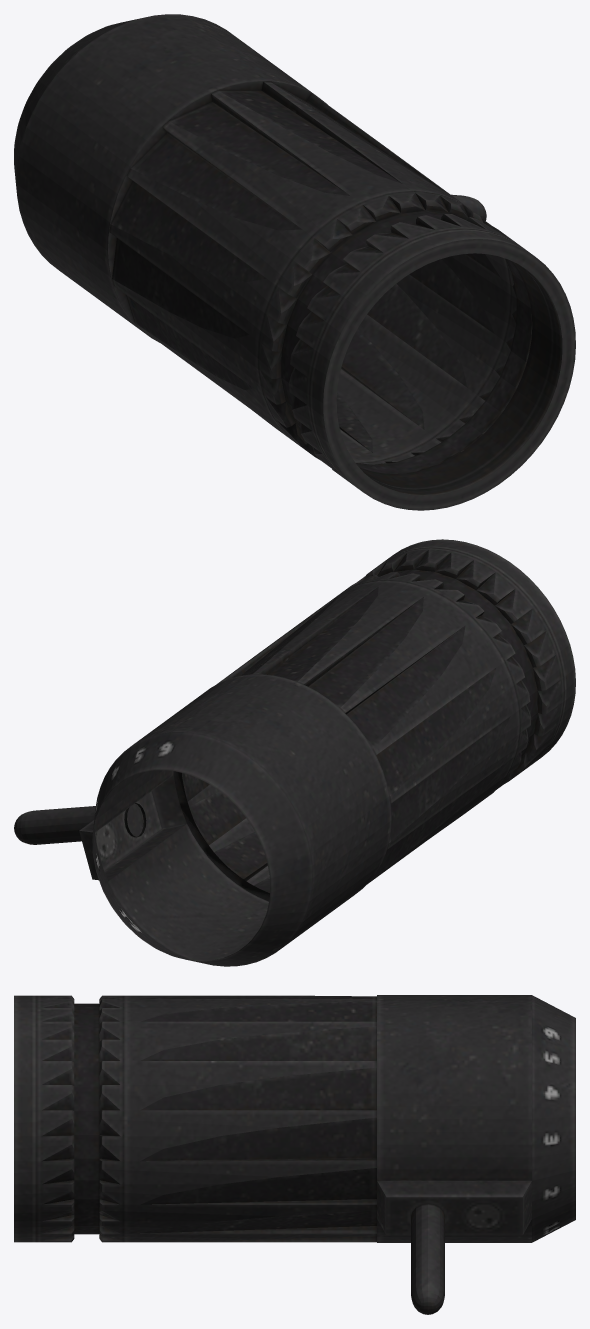
3 renders of one model, top to bottom at view 1: azimuth 30°, elevation 25°; view 2: azimuth 150°, elevation 25°; view 3: azimuth 270°, elevation 25°, orthographic. The views are drawn at different scales.
Visible parts, largest first — view 1: TW_5b3b99475acfc432ff4dcbee_PZ_Import; view 2: TW_5b3b99475acfc432ff4dcbee_PZ_Import; view 3: TW_5b3b99475acfc432ff4dcbee_PZ_Import.
Part boxes in pixels (x1=…): TW_5b3b99475acfc432ff4dcbee_PZ_Import: x1=14, y1=14, x2=575, y2=510; TW_5b3b99475acfc432ff4dcbee_PZ_Import: x1=14, y1=539, x2=575, y2=966; TW_5b3b99475acfc432ff4dcbee_PZ_Import: x1=14, y1=995, x2=575, y2=1314.
Bounding box in the file's own units: 0.04 × 0.0567 × 0.025.
1 material, 1 textured.
